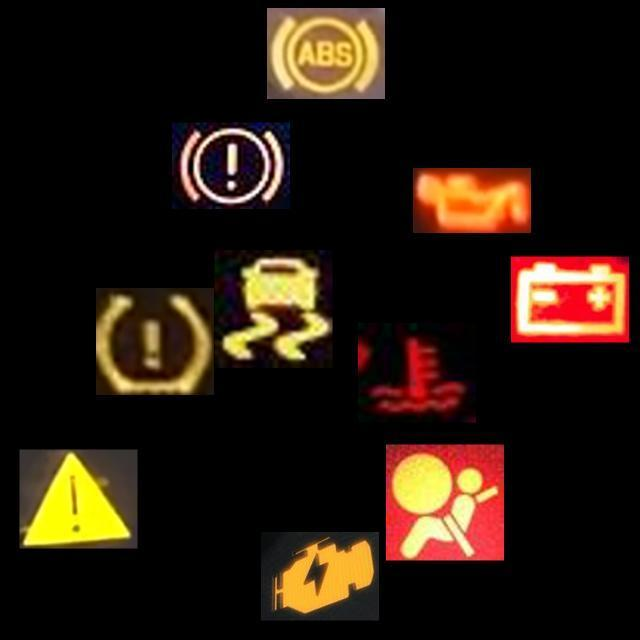Central Warning lamp: (19, 449, 138, 548)
Engine cooling system: (358, 323, 476, 423)
